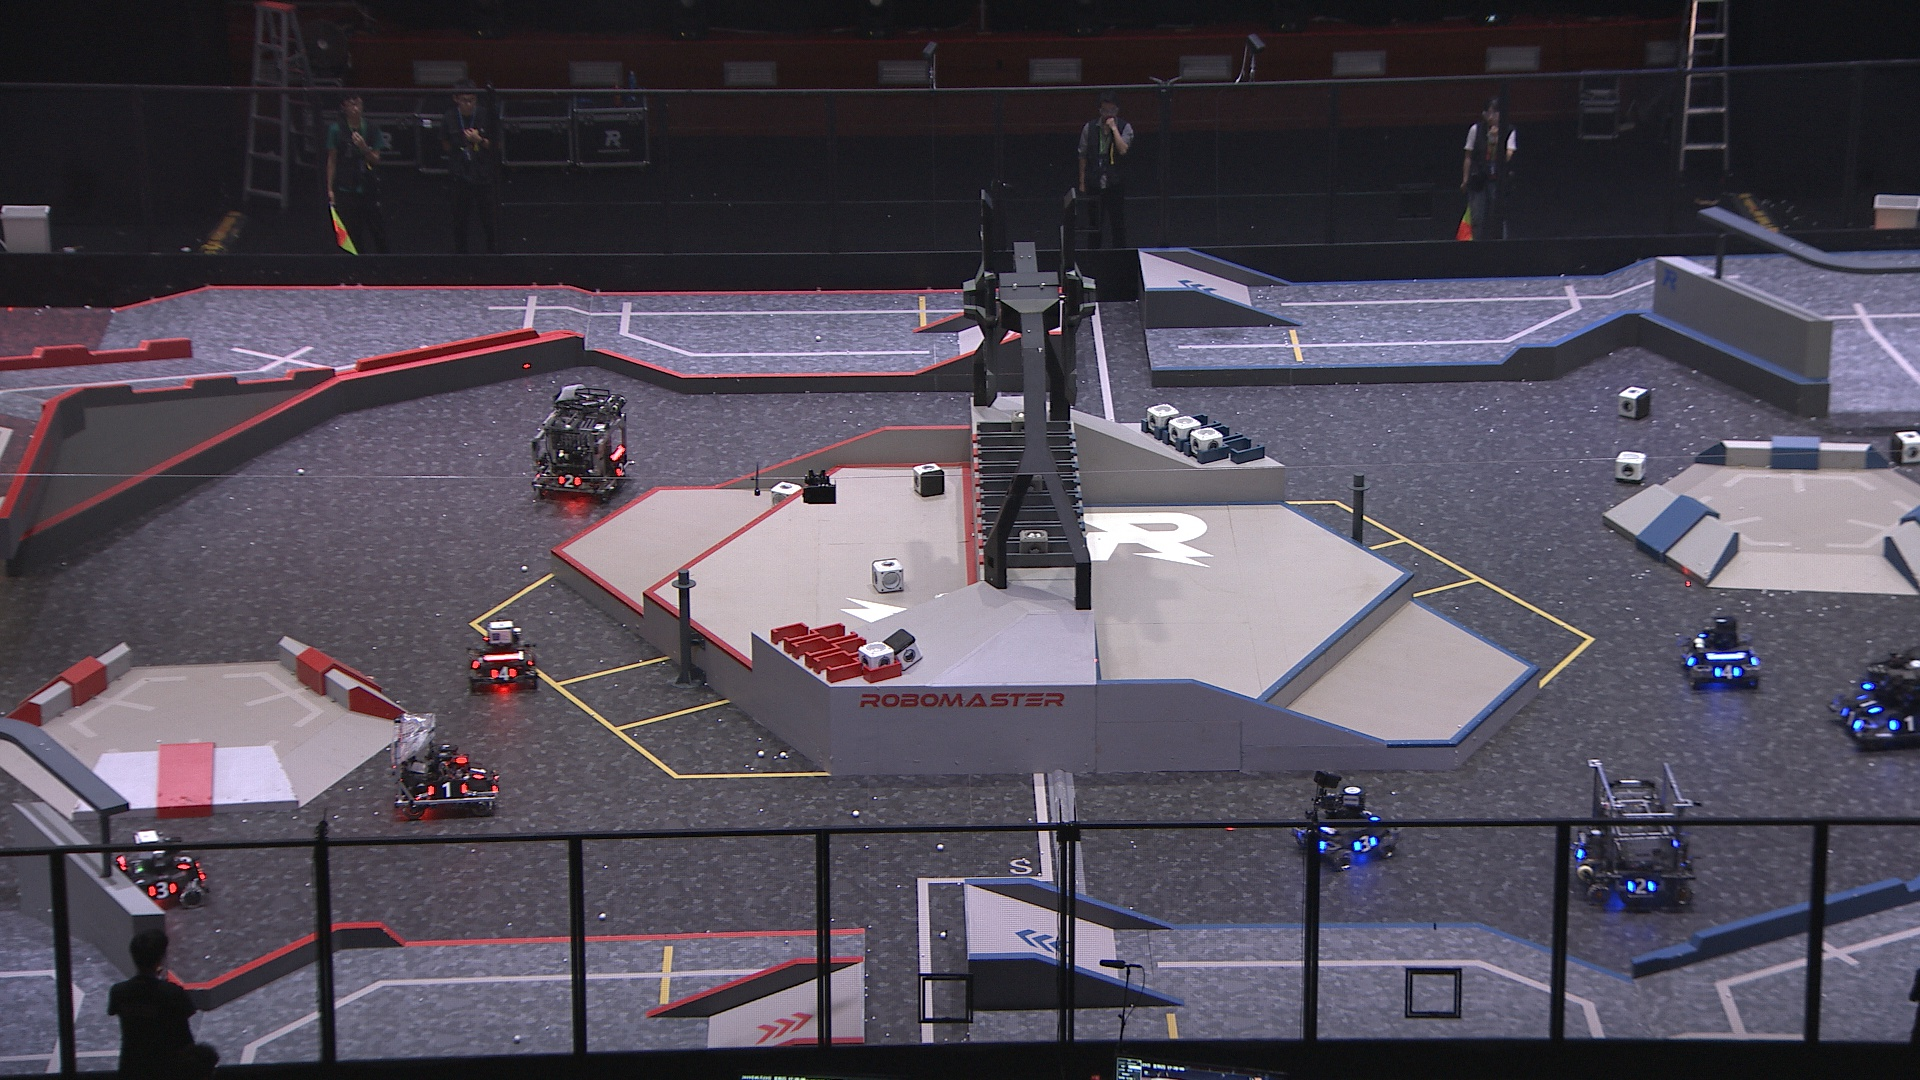armor: (144, 880, 179, 902), (427, 781, 468, 799), (1622, 877, 1658, 897), (1887, 713, 1920, 735), (1712, 662, 1742, 683), (1854, 692, 1883, 713), (1840, 705, 1863, 731), (1352, 832, 1378, 855), (487, 665, 517, 683), (169, 855, 196, 872), (556, 473, 582, 491), (467, 765, 489, 782), (1571, 840, 1588, 862), (1681, 650, 1698, 669), (615, 462, 626, 479)
car: (1567, 760, 1698, 911), (527, 384, 629, 501), (390, 712, 502, 818), (1826, 646, 1920, 754), (1298, 785, 1399, 873), (107, 831, 210, 913), (1673, 613, 1762, 688), (465, 618, 538, 692)
